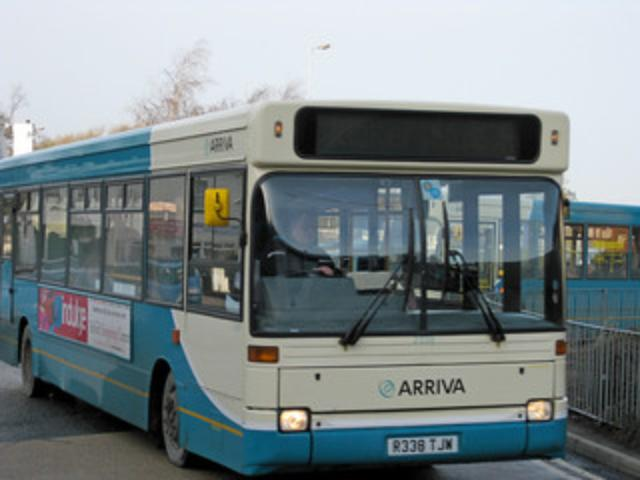bus: (2, 94, 570, 480)
